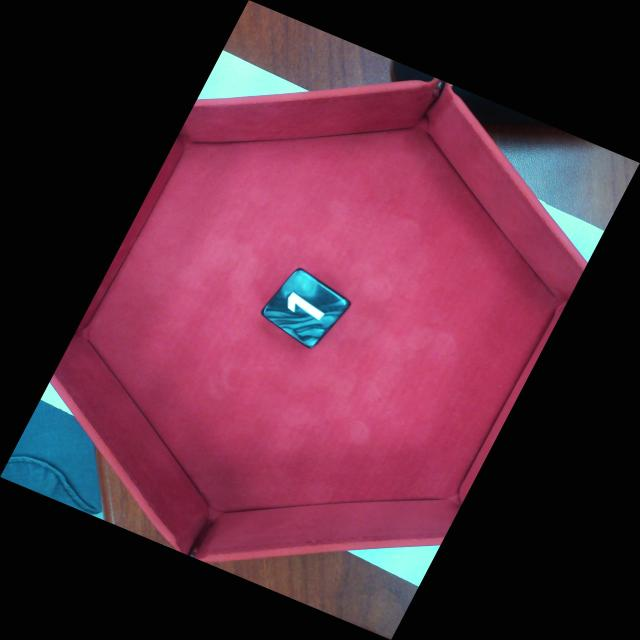dice: (261, 268, 351, 349)
